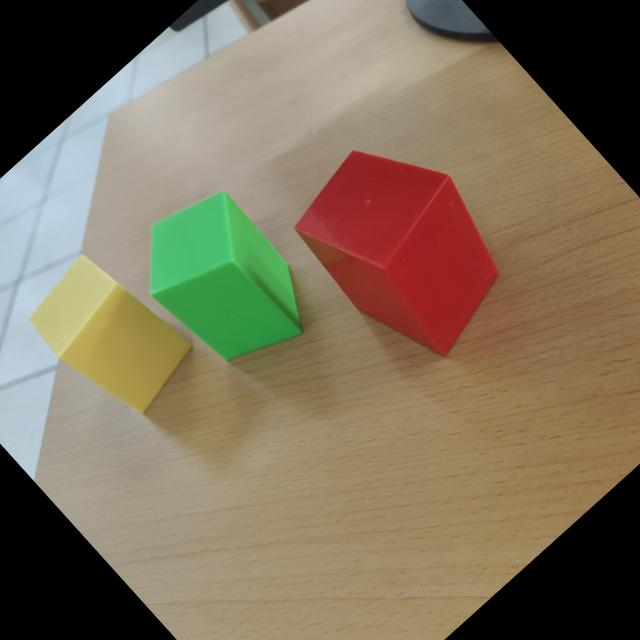green: (149, 191, 304, 362)
red: (294, 149, 501, 358)
yellow: (31, 255, 192, 414)
